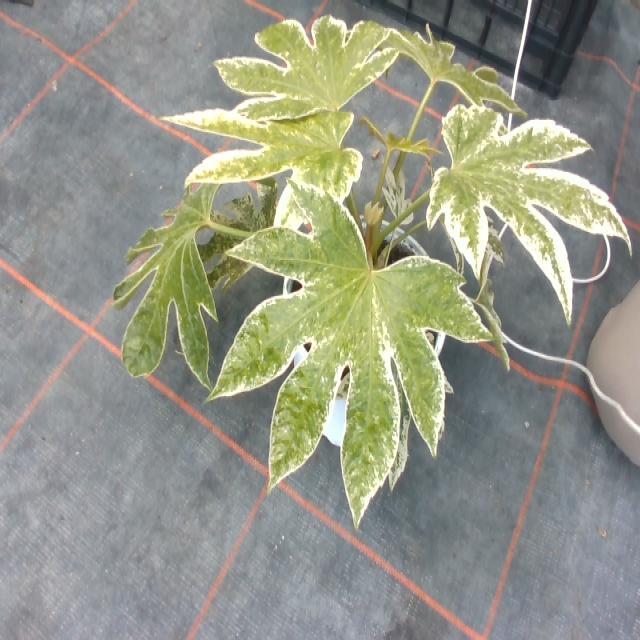Fatsia-japonica: (205, 185, 478, 515), (423, 90, 633, 315), (174, 74, 384, 248), (91, 172, 231, 381), (201, 14, 411, 131), (374, 14, 527, 130), (198, 164, 284, 298), (357, 102, 438, 178), (472, 265, 519, 377)
